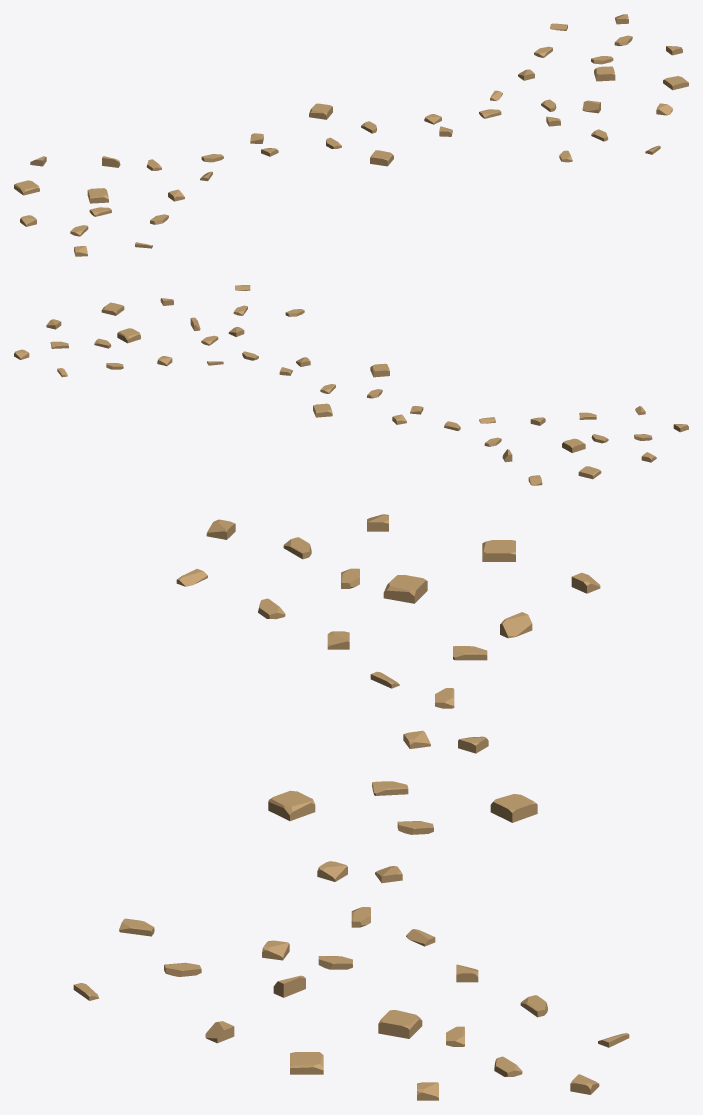
The model's file is pebbal rocks type1.fbx.
3 renders of one model, top to bottom at view 1: azimuth 30°, elevation 25°; view 2: azimuth 150°, elevation 25°; view 3: azimuth 270°, elevation 25°, orthographic. The views are drawn at different scales.
Parts seen in each view (by area): view 1: no part large enough to name; view 2: no part large enough to name; view 3: Cube.165, Cube.147, Cube.139, Cube.157.
Boxes of the visible parts, x1,y1,x2,y2 form: Cube.165: (268,790,315,820); Cube.147: (490,794,537,822); Cube.139: (383,575,427,603); Cube.157: (378,1010,422,1038).
Size of the model in its own units: 3535 by 40.62 by 1434.
